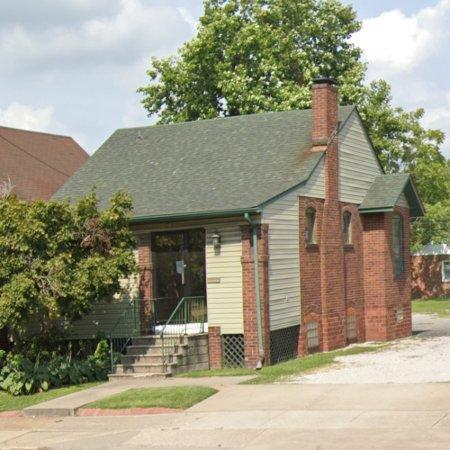chimneys: (312, 78, 340, 146)
